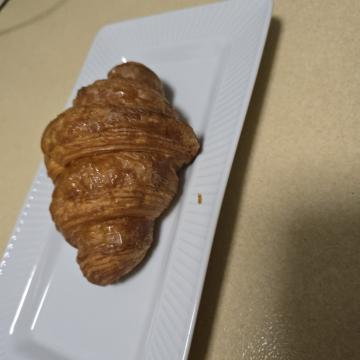croissant: (48, 152, 300, 328)
